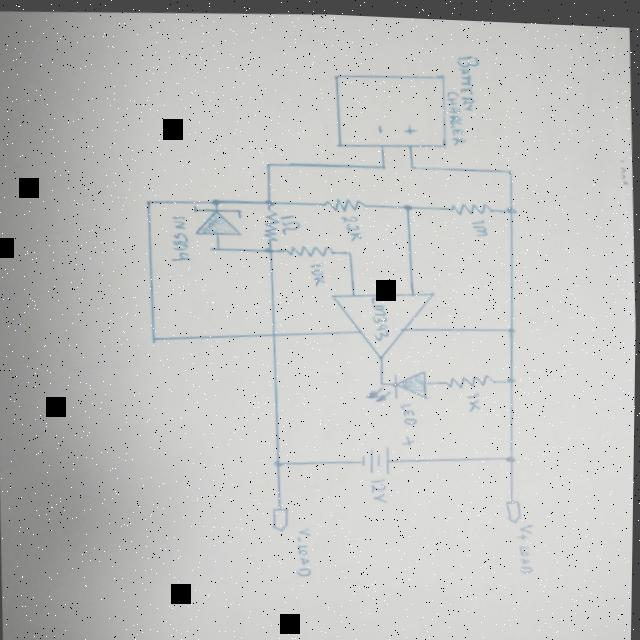crossover: (271, 328, 279, 336)
diode: (363, 364, 429, 400), (190, 200, 243, 236)
junction: (503, 447, 518, 460), (271, 455, 284, 468), (503, 320, 517, 332), (401, 197, 414, 209), (505, 369, 519, 380), (505, 200, 518, 211), (262, 243, 275, 253), (261, 195, 275, 204), (149, 332, 159, 343), (211, 195, 221, 204), (407, 159, 418, 167), (505, 162, 514, 170), (378, 159, 387, 167), (263, 158, 272, 166), (144, 196, 153, 204), (215, 243, 224, 250), (376, 377, 386, 383), (345, 247, 353, 253)
resistor: (444, 367, 497, 389), (284, 240, 336, 257), (322, 192, 368, 210), (449, 196, 494, 213), (262, 206, 281, 240)
source: (330, 65, 448, 150), (359, 440, 393, 474)
terminal: (270, 504, 291, 530), (504, 494, 523, 519)
text: (455, 47, 482, 107), (514, 516, 539, 570), (168, 212, 193, 261), (445, 86, 466, 144), (293, 521, 315, 575), (369, 290, 391, 339), (340, 211, 363, 240), (369, 473, 389, 501), (278, 210, 301, 234), (398, 398, 419, 422), (309, 257, 326, 284), (469, 213, 489, 235), (466, 385, 483, 410)
